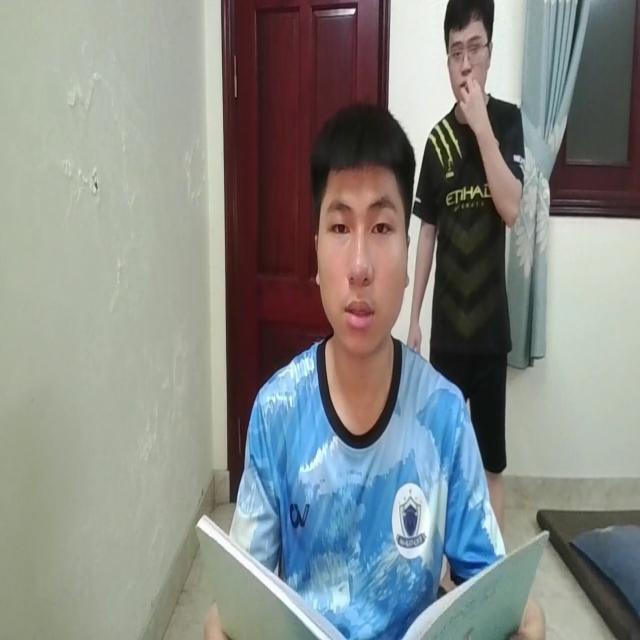book: (196, 497, 551, 640)
extra_person: (406, 0, 525, 506)
student: (213, 96, 502, 581)
